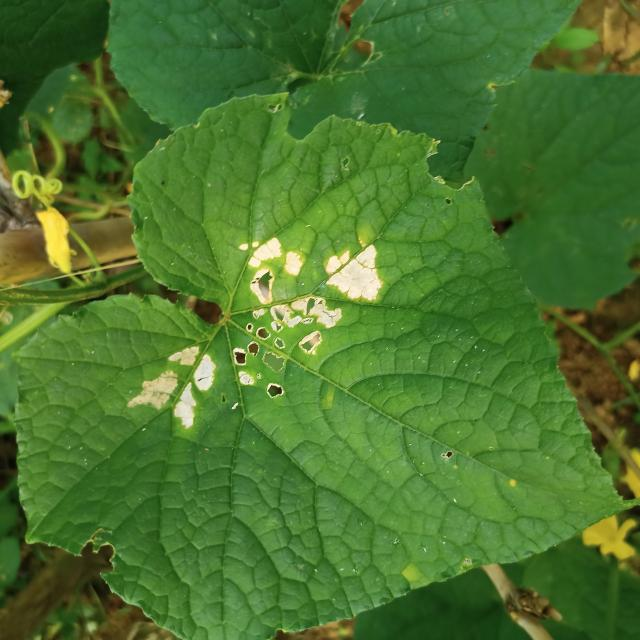disease_cucumber: (226, 225, 386, 403), (125, 341, 222, 438)
